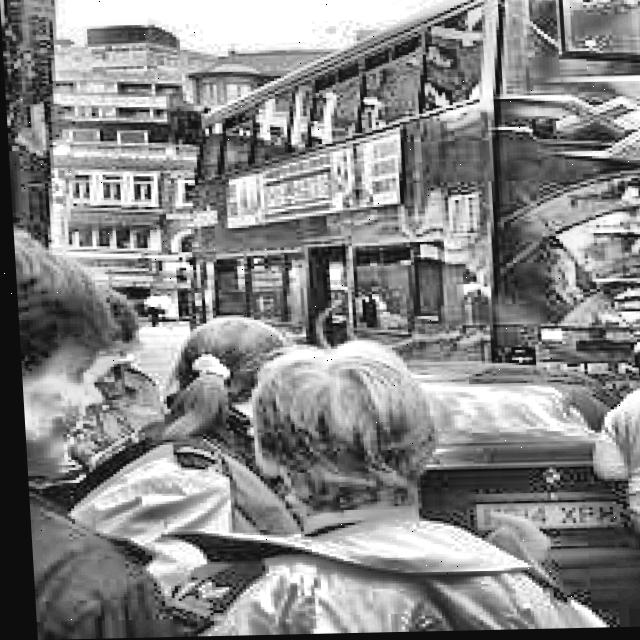light_vehicle: (381, 352, 640, 600)
